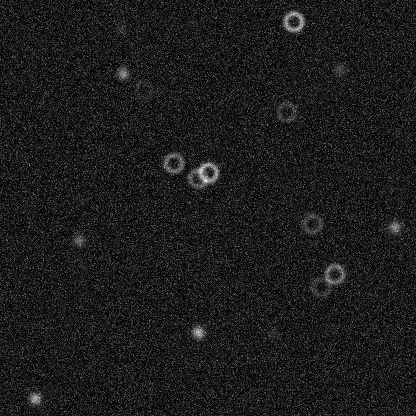Ring: (281, 9, 305, 33), (299, 211, 323, 235), (161, 150, 185, 174), (322, 262, 346, 286), (274, 99, 298, 123), (185, 166, 209, 190), (308, 274, 332, 298), (132, 77, 156, 101), (196, 160, 220, 184)
Spot: (114, 65, 130, 81), (113, 20, 129, 36), (70, 232, 86, 248), (331, 60, 347, 76), (386, 219, 402, 235), (26, 390, 42, 406), (264, 325, 280, 341), (190, 324, 206, 340)
